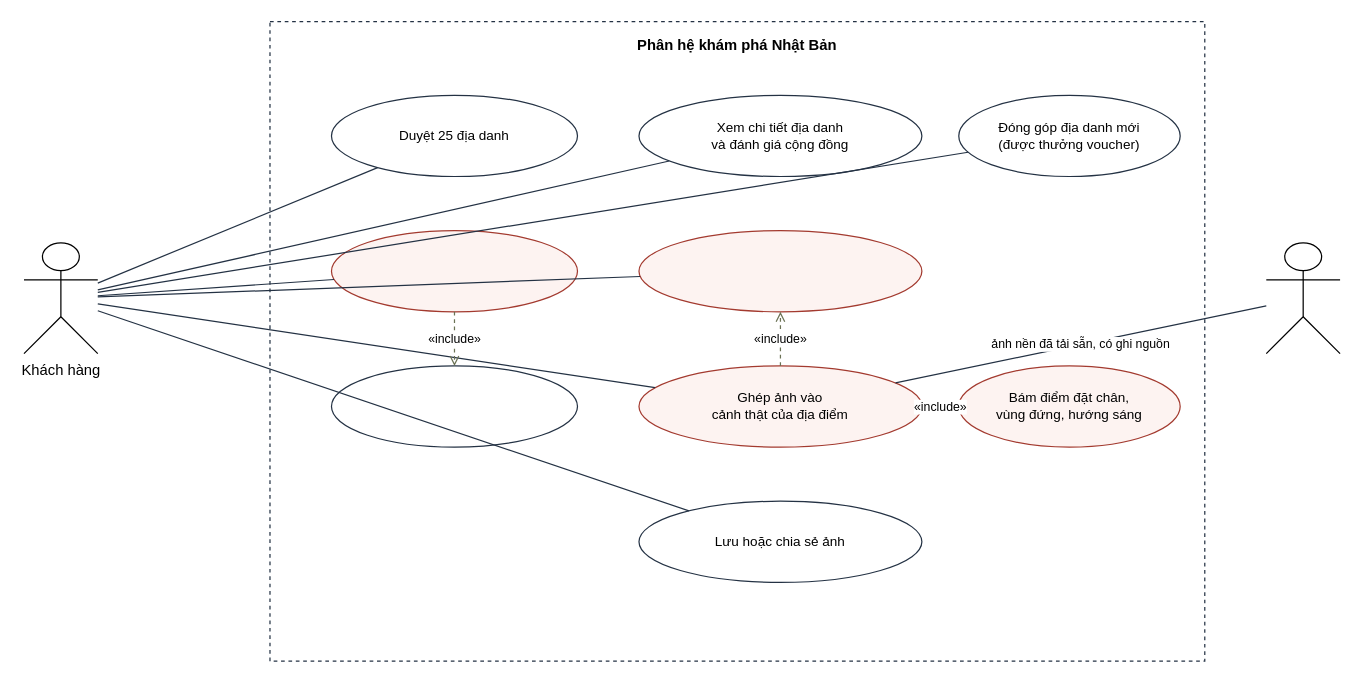
Image size: 1362x683. Some labels were removed from this diagram. The centre of each missing label's shape, as x and y in pixels:
Lọc theo quy tắc văn hoá và cổng 18+: pixel 453 406
Nguồn ảnh Wikimedia: pixel 1302 298
Nhận gợi ý trang phục hợp địa điểm: pixel 453 270
Thử đồ ngay tại chỗ: pixel 780 270
